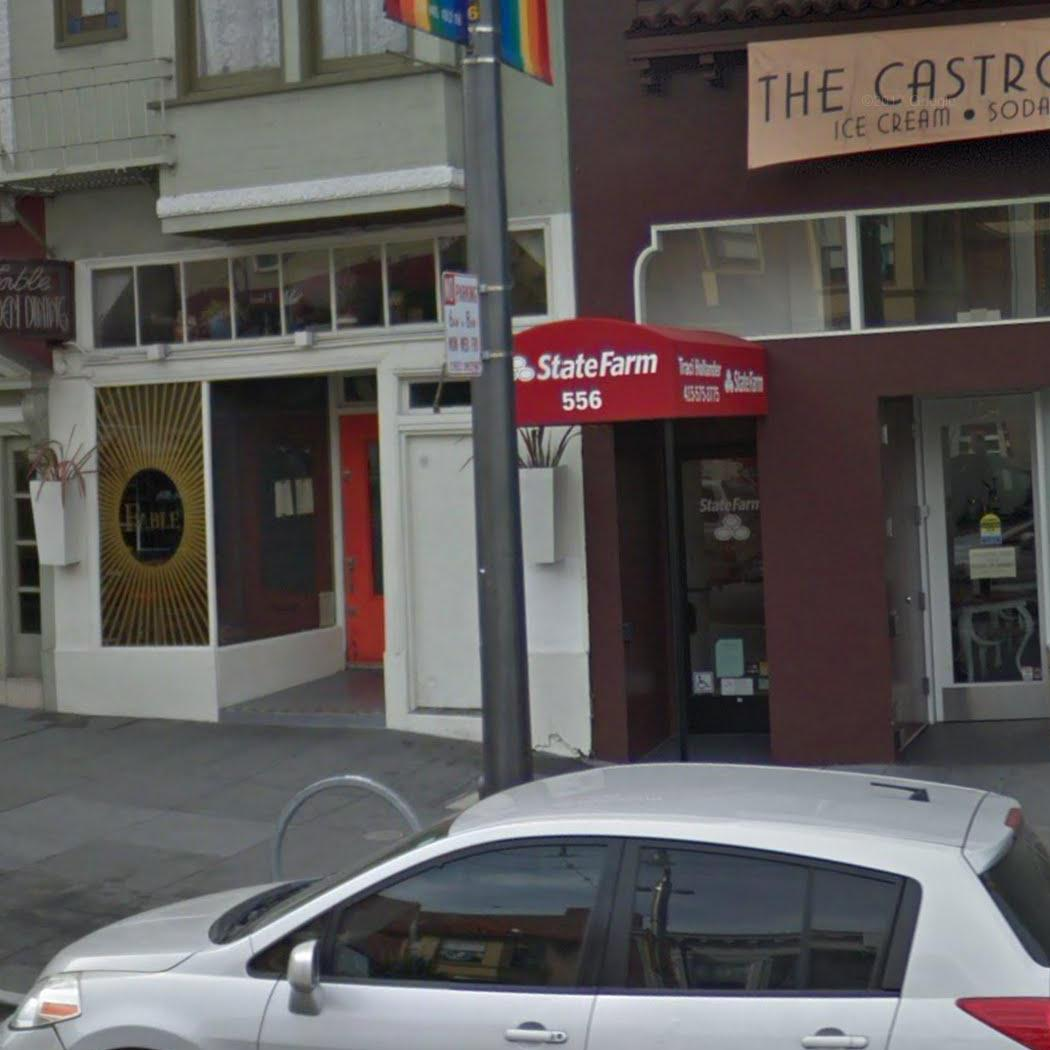No Parking: (438, 266, 488, 382)
